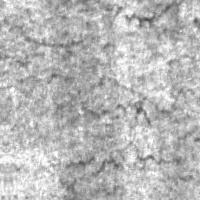crazing: (78, 68, 199, 171), (56, 128, 199, 199), (9, 0, 189, 52)
